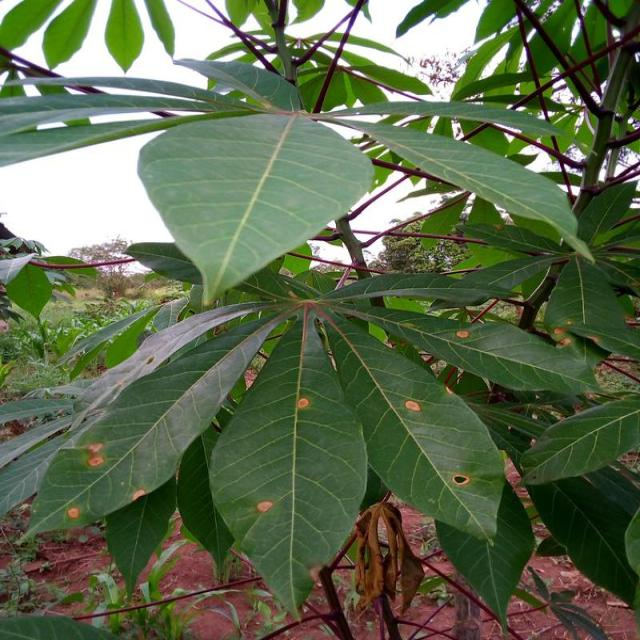cassava leaf: (20, 302, 290, 544), (207, 305, 368, 620), (136, 108, 375, 305), (316, 306, 507, 542)
